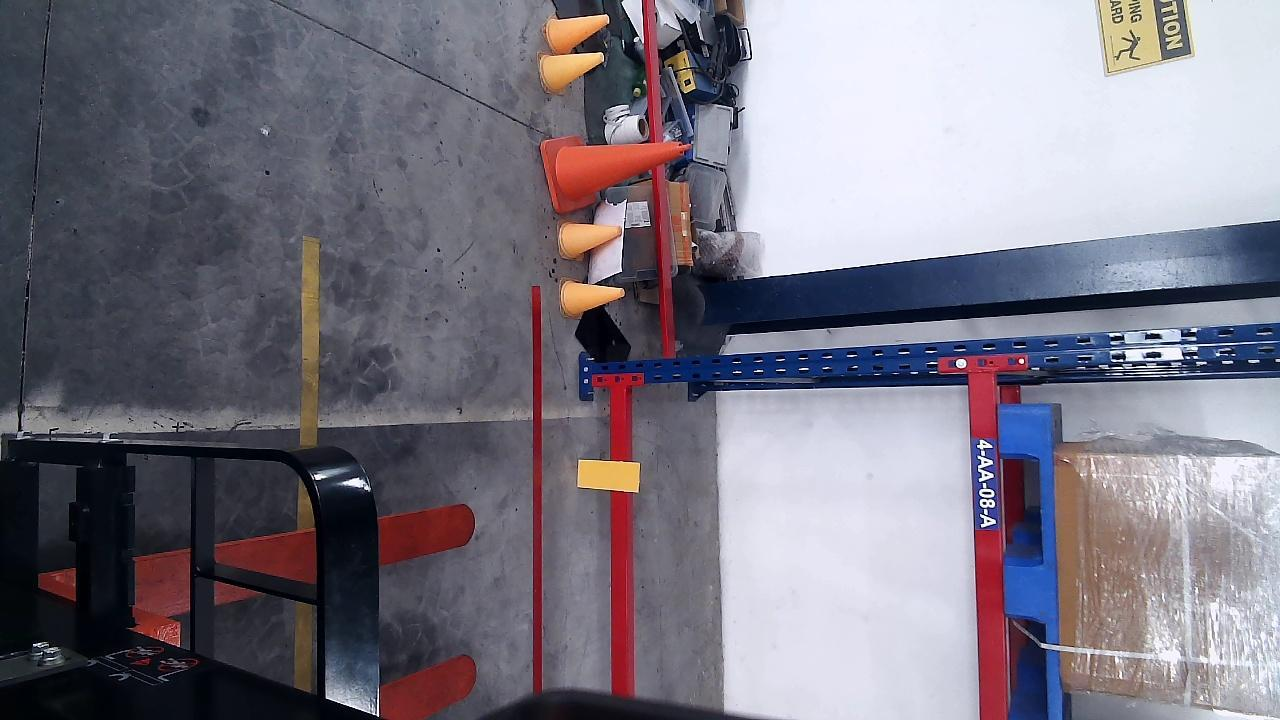h_rack: (967, 370, 1009, 720), (609, 384, 638, 695)
orange_strip: (577, 459, 640, 491)
red_line: (531, 286, 545, 693)
small_pallet: (998, 405, 1061, 719)
yellow_line: (300, 237, 319, 449)
